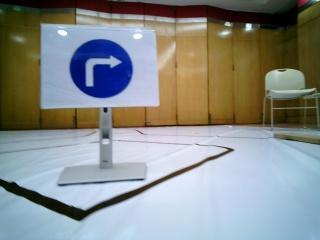right: (54, 31, 152, 104)
